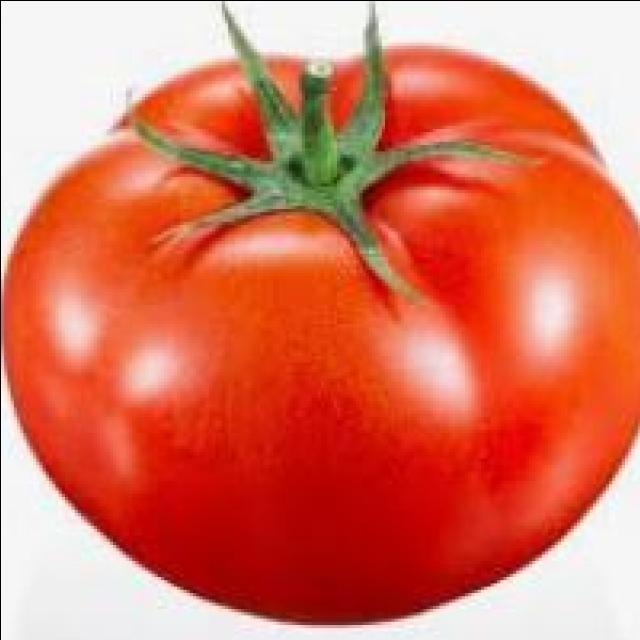Healthy: (2, 31, 630, 622)
